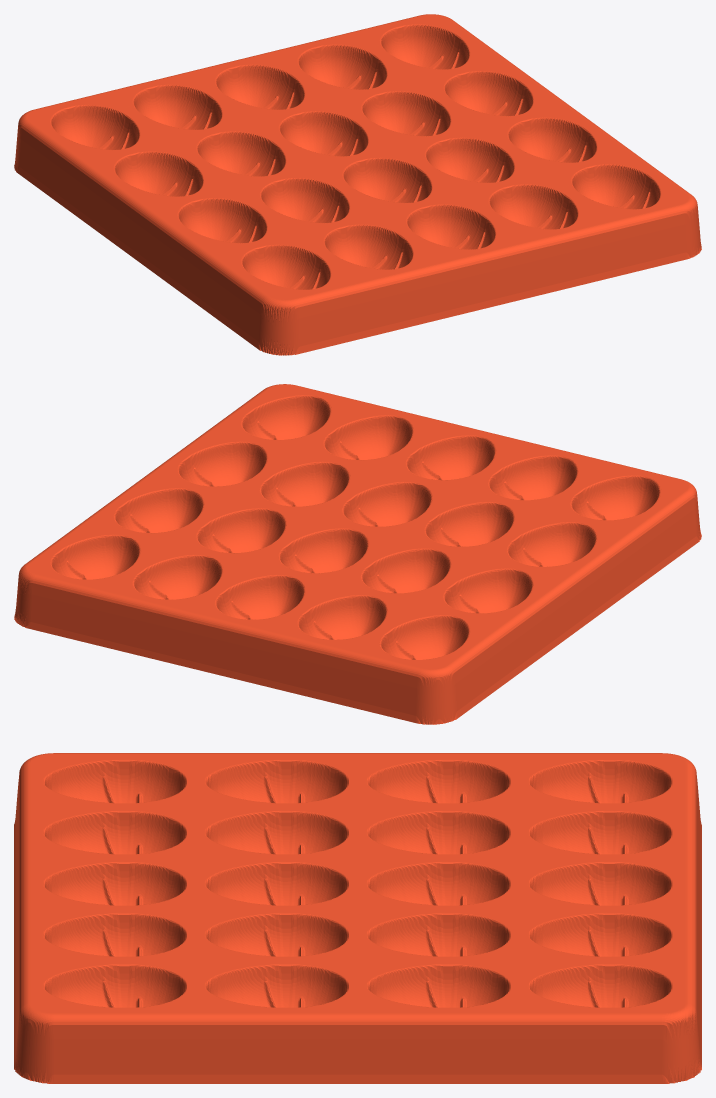
Rendered from mold.glb.
The picture shows the model from 3 angles, top to bottom: view 1: azimuth 30°, elevation 25°; view 2: azimuth 150°, elevation 25°; view 3: azimuth 270°, elevation 25°; orthographic projection. The views are drawn at different scales.
Visible parts, largest first — view 1: geometry_0; view 2: geometry_0; view 3: geometry_0.
Part boxes in pixels (left/top/right/bottom): geometry_0: left=14, top=14, right=701, bottom=355; geometry_0: left=14, top=384, right=701, bottom=724; geometry_0: left=14, top=753, right=701, bottom=1083.
Bounding box in the file's own units: 0.1467 × 0.0159 × 0.1563.
